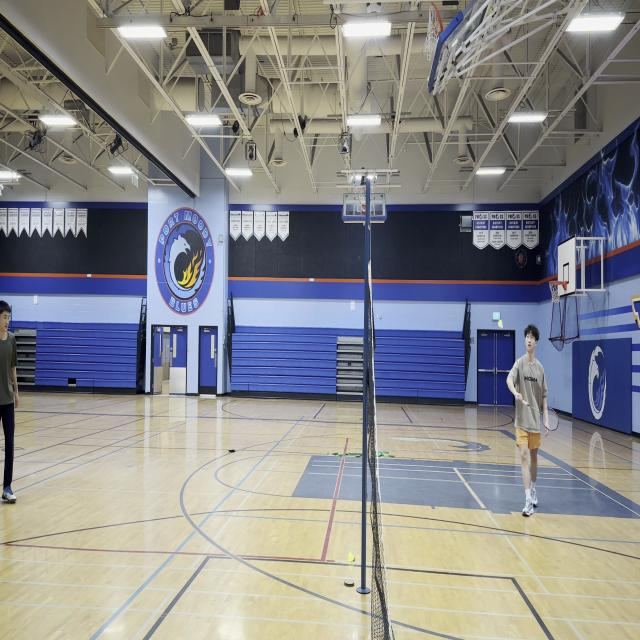shuttlecock: (497, 317, 505, 331)
